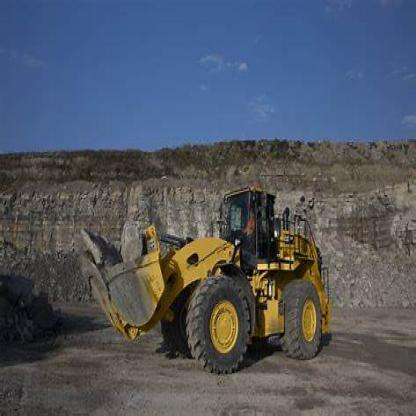bull_dozer/loader/grader: (73, 188, 336, 380)
